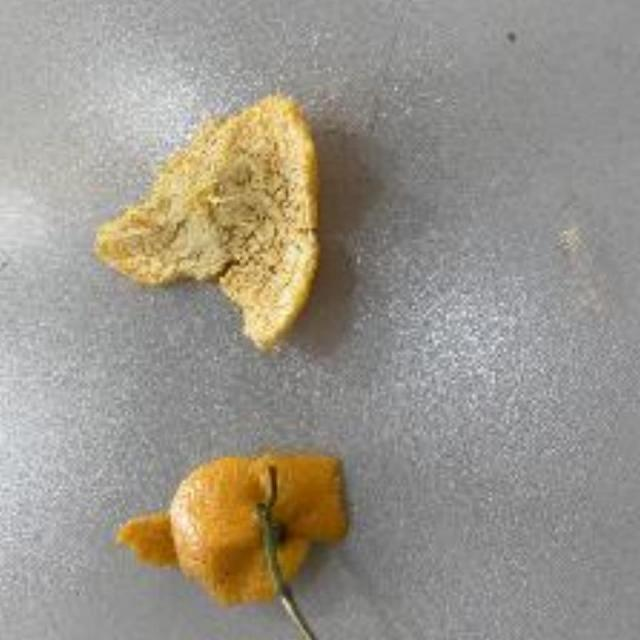orange peel: (74, 86, 334, 356), (103, 444, 360, 616)
